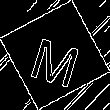M_N: (26, 24, 84, 86)
